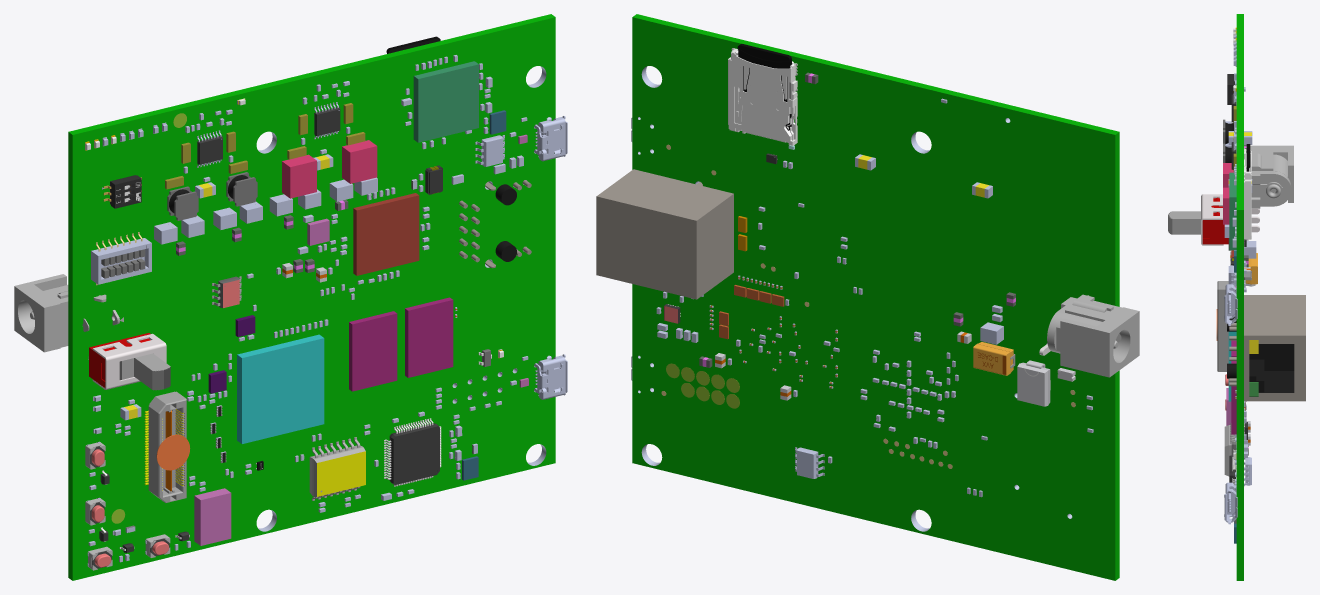
Rendered from PROC048A_STEP.glb.
The picture shows the model from 3 angles, left to right: view 1: azimuth 30°, elevation 25°; view 2: azimuth 150°, elevation 25°; view 3: azimuth 270°, elevation 25°; orthographic projection. The views are drawn at different scales.
Visible parts, largest first — view 1: dca1000evm:1, CABGA381_31-49_670X670_1-8:1, EQFP64_19-68_400X400:1, LQFP64_19-68_390X390:1, CON_PWRJACK3_RAPC722_P_R_T:1, =>[0:1:1:54], SW3_500SSP1S2M2_510X260_TH_15-1:1, FBGA78_31-49_360X520_1-2:2, FBGA78_31-49_360X520_1-2:1, LQFP64_19-68_400X400:1, SOIC16_W_2-7:1, SW8_218-8LPST_450X230_SMD_2-7:1 (+14 smaller); view 2: dca1000evm:1, LPJG16414A4NL:1, CON_SD8_DM3AT-SF_S_R_S_1-7:1, CON_PWRJACK3_RAPC722_P_R_T:1, DIO_SMC:1, CAPT7343D_3-25:1, SOIC8_1-8:1; view 3: LPJG16414A4NL:1, dca1000evm:1, CON_PWRJACK3_RAPC722_P_R_T:1, SW3_500SSP1S2M2_510X260_TH_15-1:1, =>[0:1:1:54], CON_SD8_DM3AT-SF_S_R_S_1-7:1, CON_USBB5_105017-01_S_R_S_2-6:2, CON_USBB5_105017-01_S_R_S_2-6:1, LQFP64_19-68_390X390:1, SOIC16_W_2-7:1, FBGA78_31-49_360X520_1-2:2, CAPT7343D_3-25:1 (+5 smaller).
Part boxes in pixels (x1=…): dca1000evm:1: x1=68, y1=14, x2=555, y2=580; CABGA381_31-49_670X670_1-8:1: x1=237, y1=334, x2=324, y2=443; EQFP64_19-68_400X400:1: x1=353, y1=193, x2=419, y2=275; LQFP64_19-68_390X390:1: x1=413, y1=61, x2=478, y2=142; CON_PWRJACK3_RAPC722_P_R_T:1: x1=14, y1=274, x2=123, y2=352; =>[0:1:1:54]: x1=148, y1=391, x2=190, y2=502; SW3_500SSP1S2M2_510X260_TH_15-1:1: x1=88, y1=333, x2=170, y2=390; FBGA78_31-49_360X520_1-2:2: x1=405, y1=297, x2=453, y2=377; FBGA78_31-49_360X520_1-2:1: x1=349, y1=311, x2=397, y2=391; LQFP64_19-68_400X400:1: x1=384, y1=418, x2=441, y2=486; SOIC16_W_2-7:1: x1=309, y1=437, x2=365, y2=500; SW8_218-8LPST_450X230_SMD_2-7:1: x1=91, y1=232, x2=151, y2=285; dca1000evm:1: x1=632, y1=14, x2=1119, y2=580; LPJG16414A4NL:1: x1=596, y1=169, x2=733, y2=299; CON_SD8_DM3AT-SF_S_R_S_1-7:1: x1=728, y1=44, x2=797, y2=145; CON_PWRJACK3_RAPC722_P_R_T:1: x1=1047, y1=294, x2=1139, y2=377; DIO_SMC:1: x1=1017, y1=360, x2=1050, y2=406; CAPT7343D_3-25:1: x1=973, y1=342, x2=1015, y2=375; SOIC8_1-8:1: x1=795, y1=447, x2=824, y2=478; LPJG16414A4NL:1: x1=1227, y1=295, x2=1305, y2=401; dca1000evm:1: x1=1236, y1=14, x2=1243, y2=580; CON_PWRJACK3_RAPC722_P_R_T:1: x1=1250, y1=145, x2=1293, y2=208; SW3_500SSP1S2M2_510X260_TH_15-1:1: x1=1168, y1=194, x2=1259, y2=245; =>[0:1:1:54]: x1=1216, y1=281, x2=1228, y2=371; CON_SD8_DM3AT-SF_S_R_S_1-7:1: x1=1244, y1=144, x2=1251, y2=239; CON_USBB5_105017-01_S_R_S_2-6:2: x1=1224, y1=482, x2=1237, y2=524; CON_USBB5_105017-01_S_R_S_2-6:1: x1=1224, y1=284, x2=1237, y2=325; LQFP64_19-68_390X390:1: x1=1229, y1=172, x2=1236, y2=250; SOIC16_W_2-7:1: x1=1224, y1=423, x2=1236, y2=476; FBGA78_31-49_360X520_1-2:2: x1=1231, y1=361, x2=1236, y2=434; CAPT7343D_3-25:1: x1=1244, y1=253, x2=1257, y2=284.
Size of the model in its own units: 0.1082 by 0.0904 by 0.0303.
